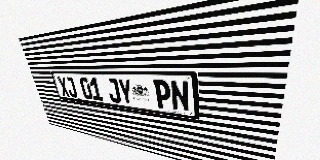0: (79, 77, 93, 100)
1: (88, 78, 103, 101)
J: (105, 78, 122, 103), (64, 77, 78, 98)
N: (170, 80, 190, 112)
P: (153, 80, 172, 110)
X: (57, 77, 70, 97)
Y: (117, 78, 134, 105)
